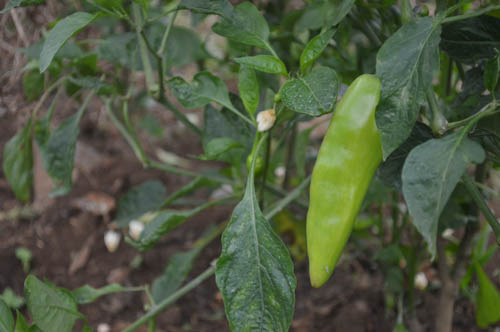ChiliPepper: (305, 74, 380, 291)
